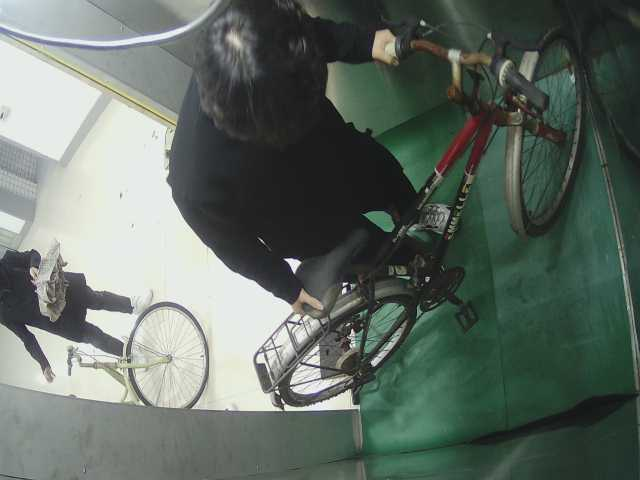bicycle: (250, 4, 601, 424), (55, 299, 216, 416)
person: (170, 4, 458, 303), (1, 245, 154, 386)
